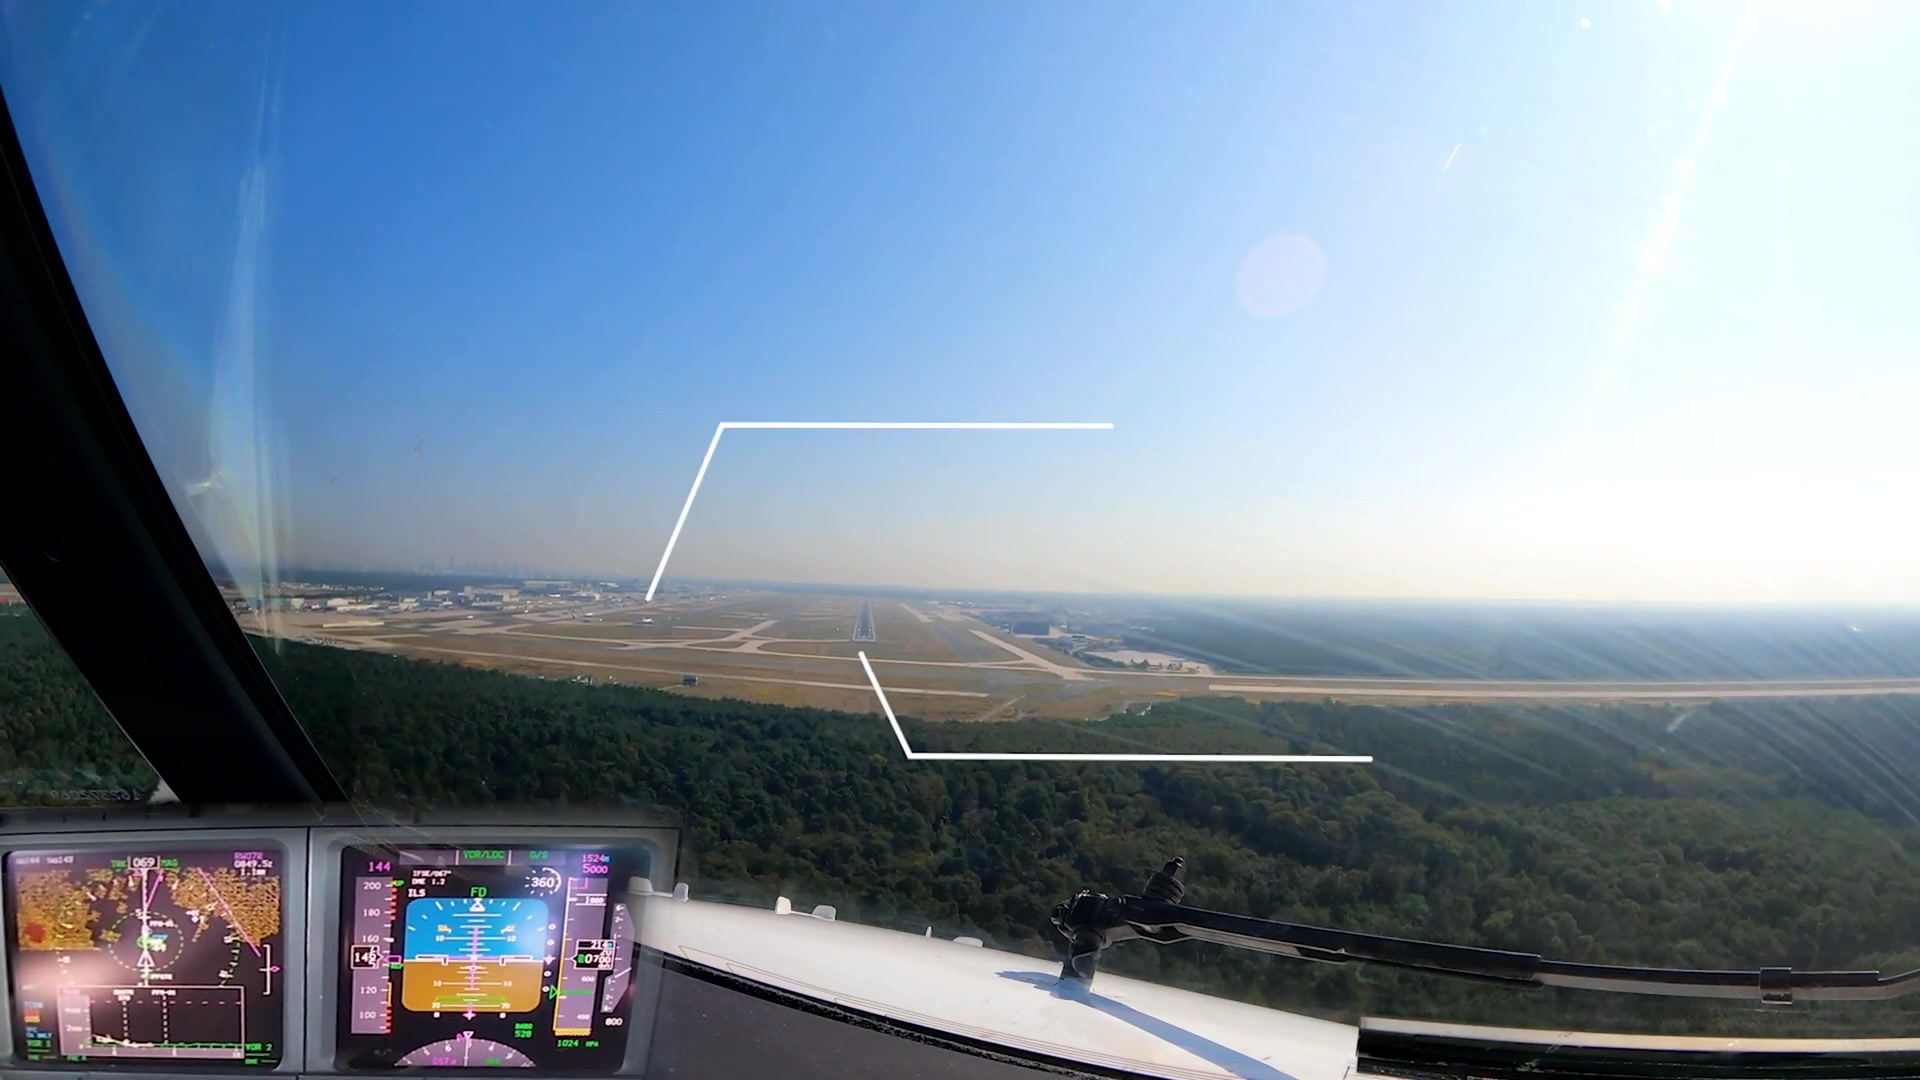runway: (851, 597, 876, 644)
